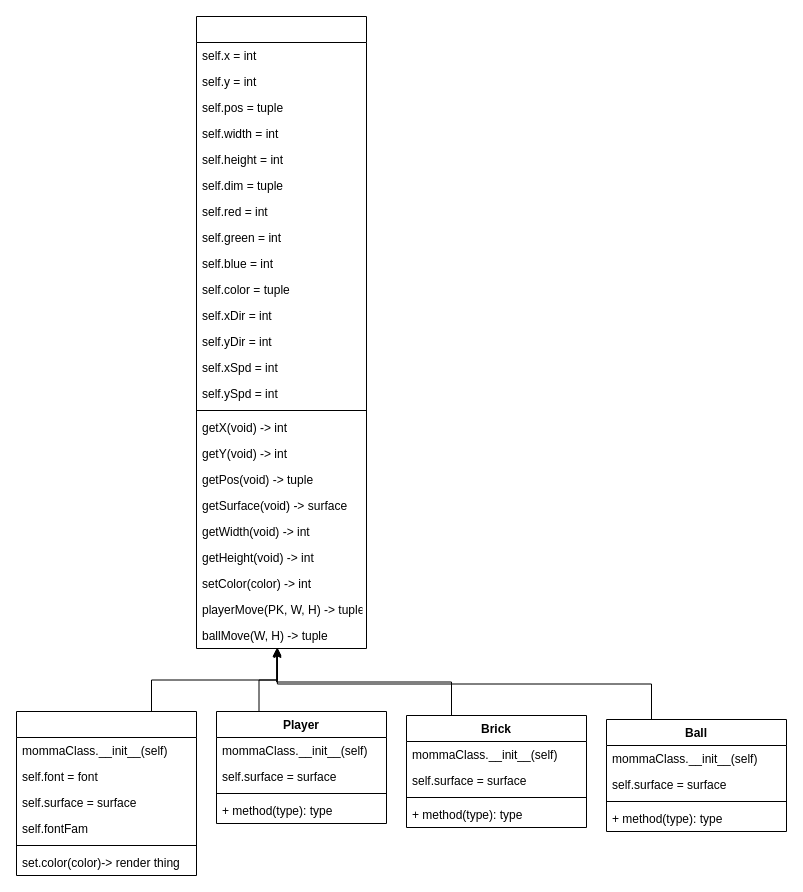
Image size: 803x892. Some labels were removed from this diagram. Each missing label, with the box of its shape:
MommaClass: (196, 16, 366, 648)
Text: (16, 710, 196, 876)
